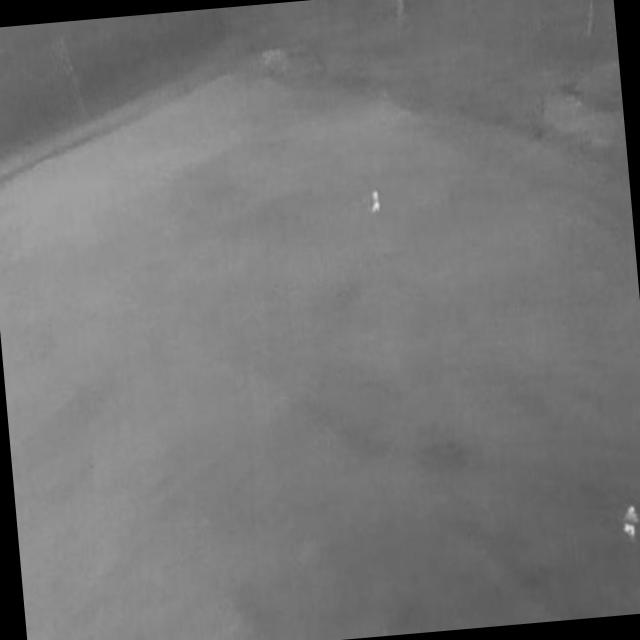person: (620, 504, 640, 543), (369, 190, 382, 216)
